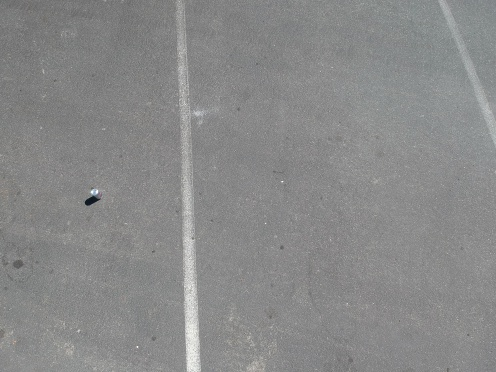can: (85, 186, 110, 203)
